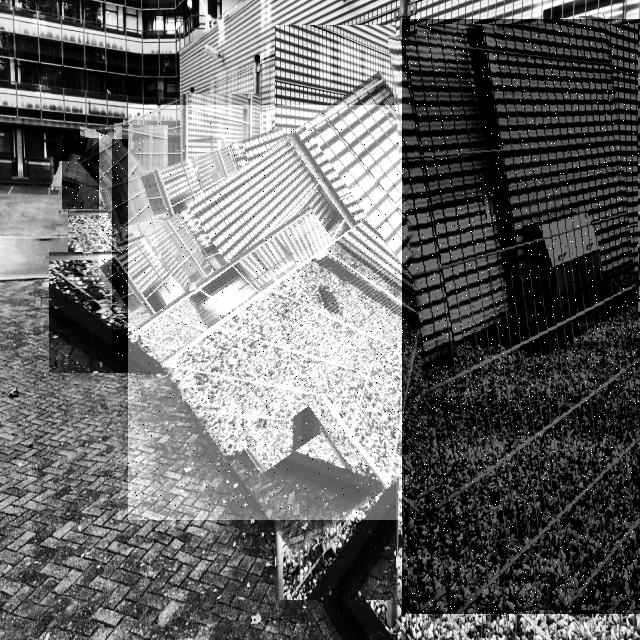fences: (128, 105, 543, 520), (402, 19, 640, 614), (112, 139, 331, 358), (99, 127, 191, 276), (62, 138, 132, 209)
